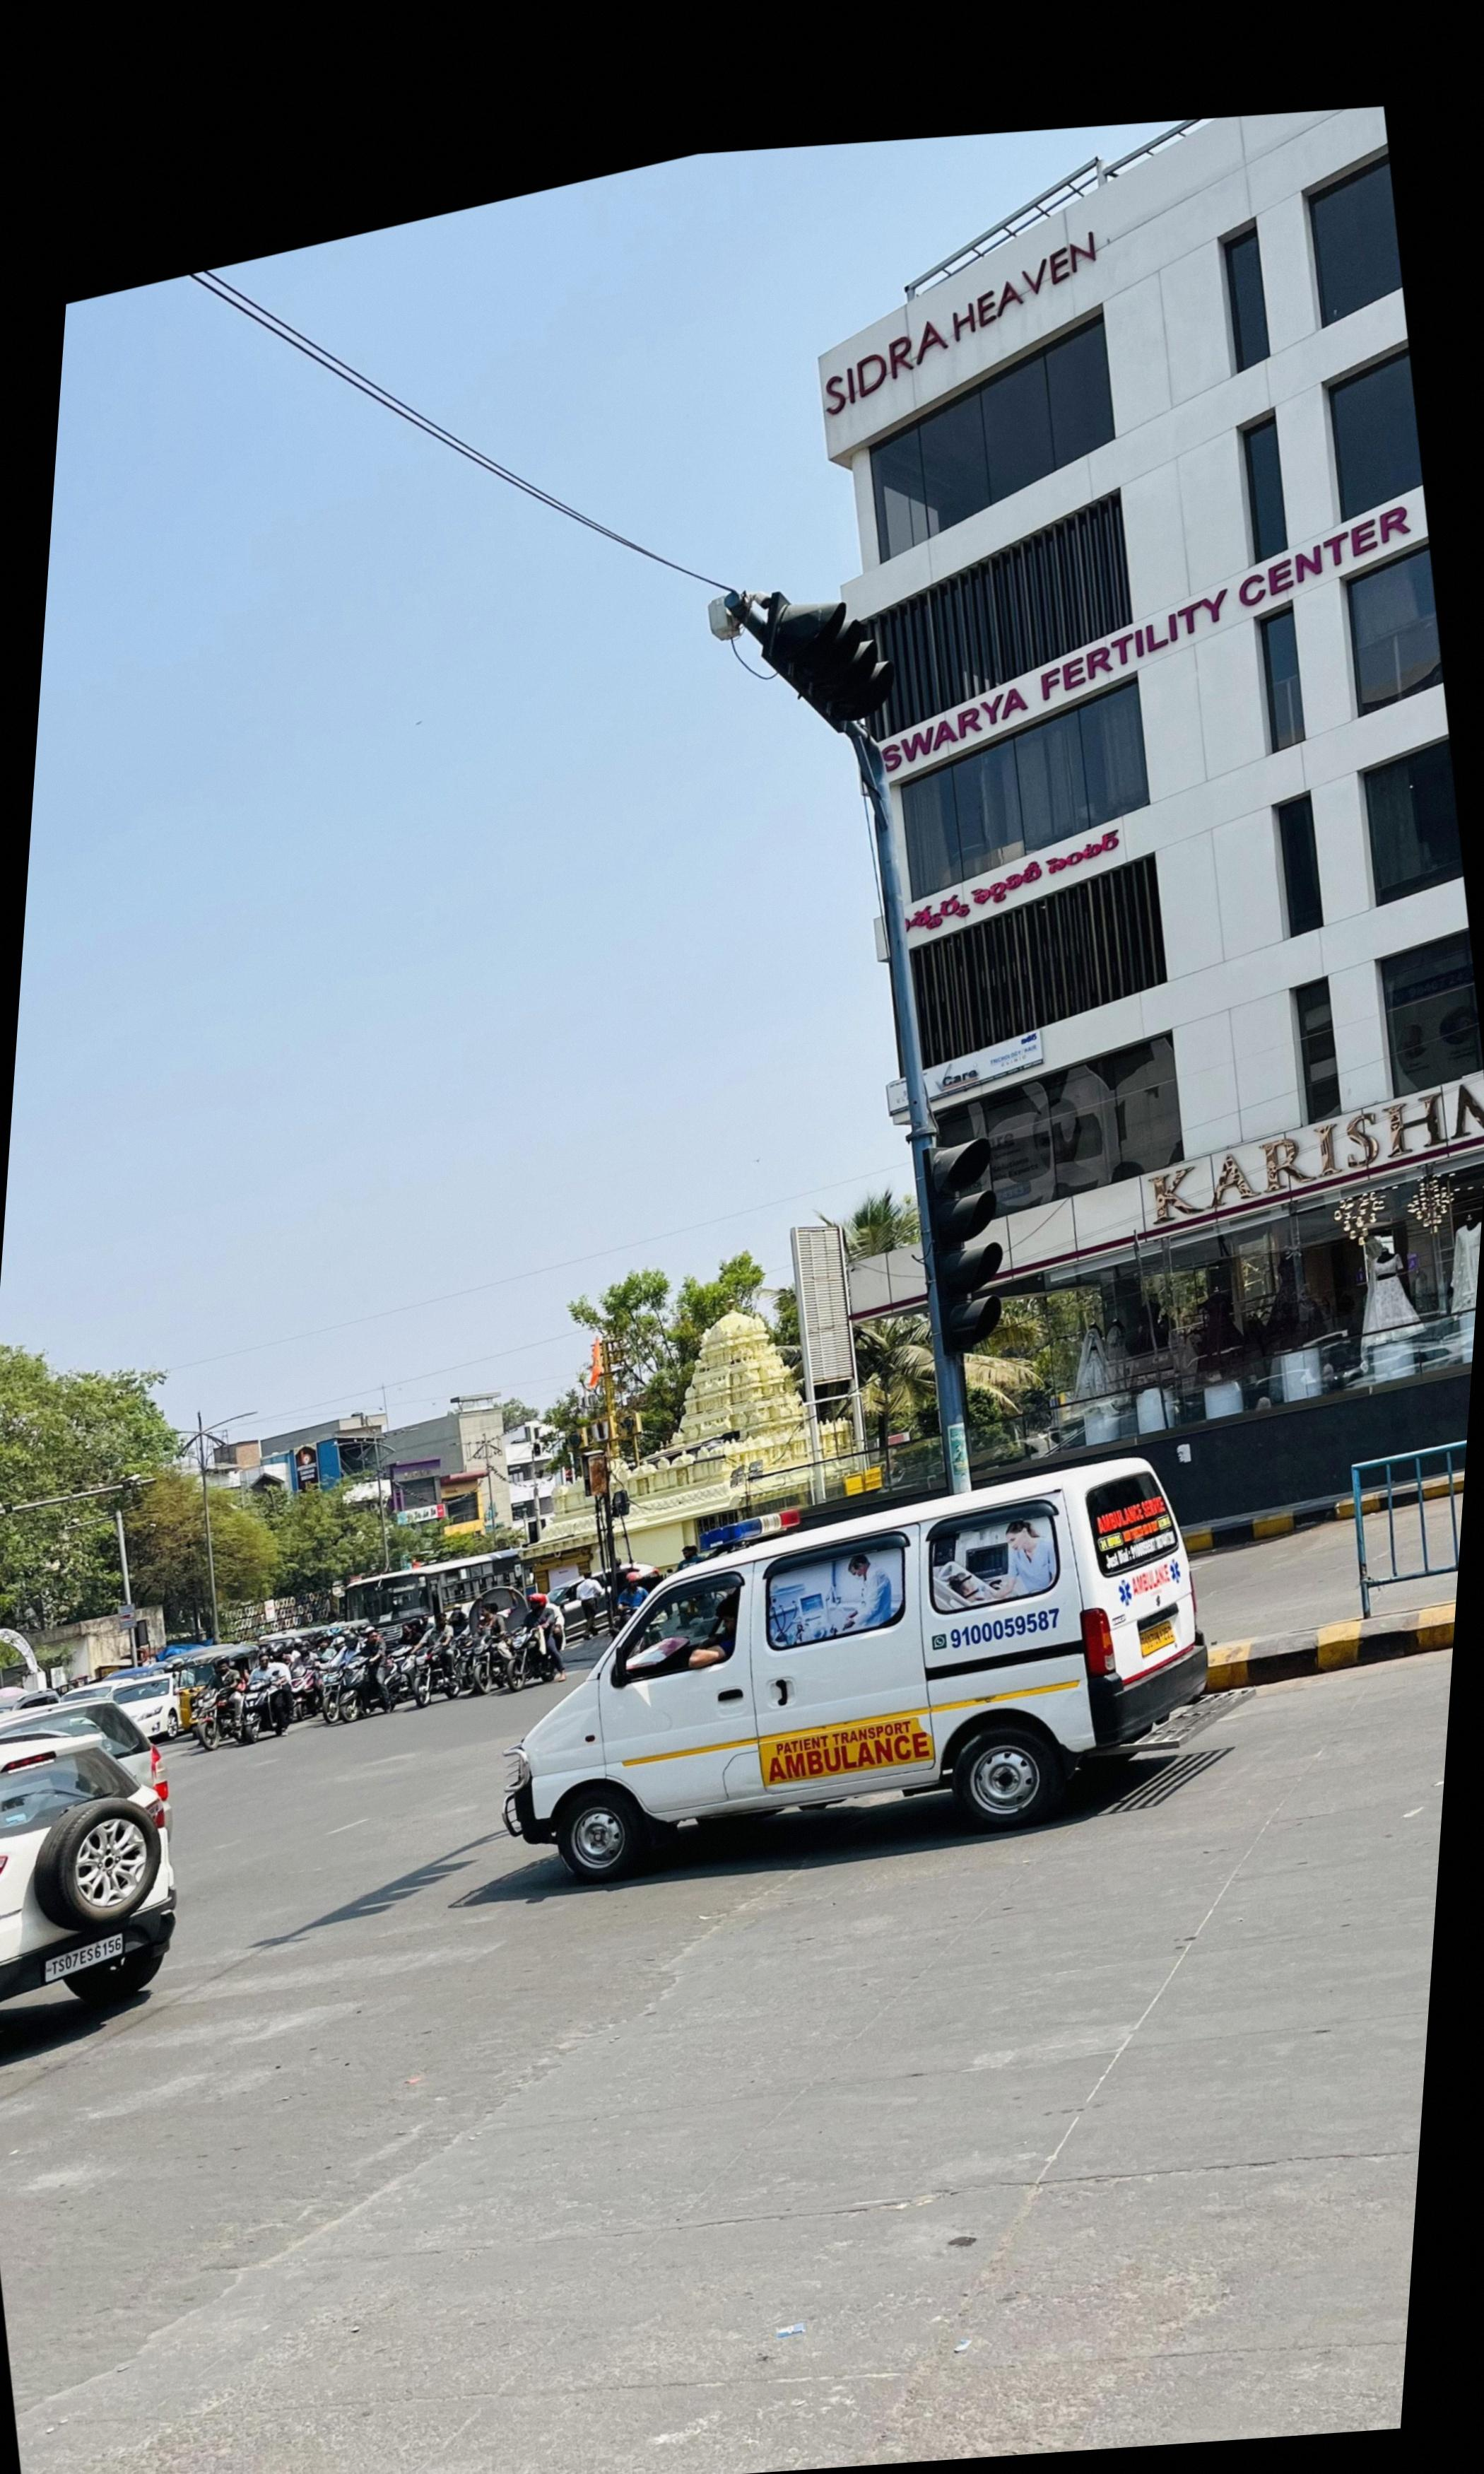ambulance: (505, 1460, 1214, 1894)
